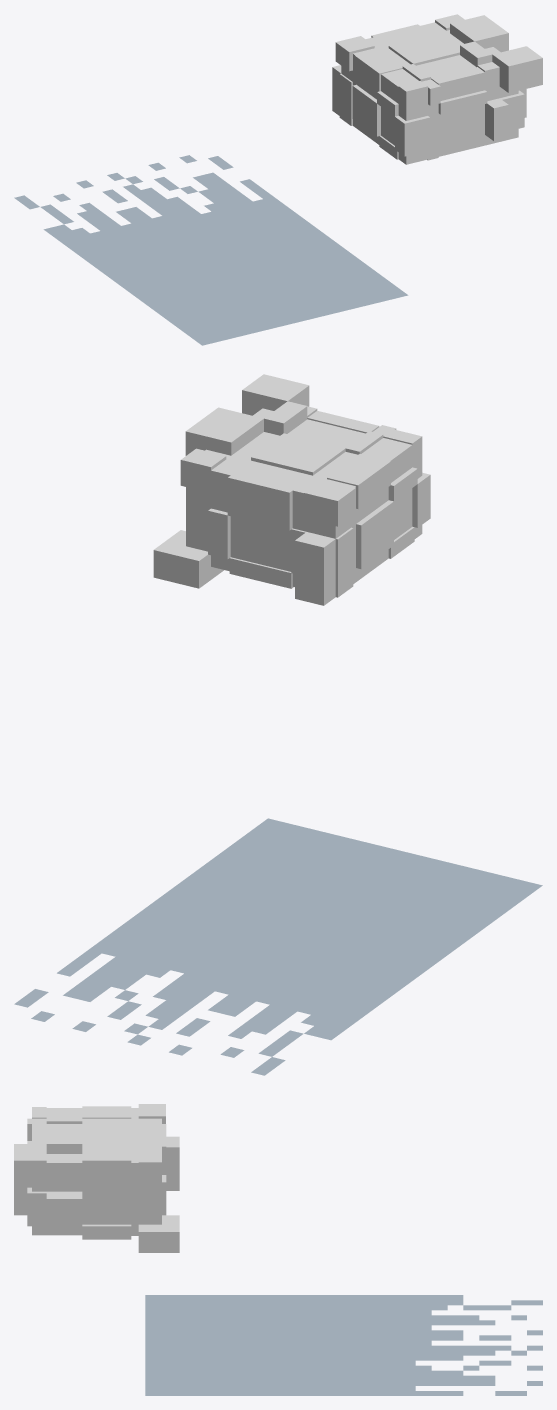
The model's file is VoidLandsTestPieces.fbx.
The picture shows the model from 3 angles, top to bottom: view 1: azimuth 30°, elevation 25°; view 2: azimuth 150°, elevation 25°; view 3: azimuth 270°, elevation 25°; orthographic projection. The views are drawn at different scales.
Visible parts, largest first — view 1: VoidLeak, Mess; view 2: VoidLeak, Mess; view 3: VoidLeak, Mess.
Part boxes in pixels (bbox=[...]): VoidLeak: bbox=[14, 155, 408, 345]; Mess: bbox=[332, 14, 542, 164]; VoidLeak: bbox=[14, 818, 542, 1075]; Mess: bbox=[153, 374, 430, 605]; VoidLeak: bbox=[145, 1295, 542, 1395]; Mess: bbox=[14, 1104, 179, 1252].
Bounding box in the file's own units: 66.52 × 40 × 37.31.
